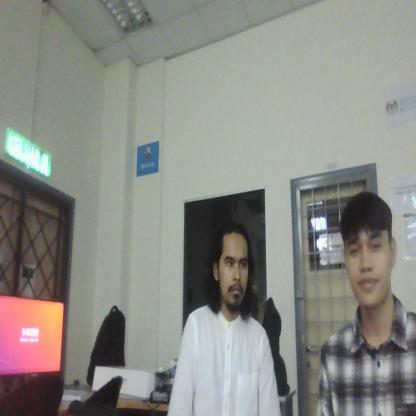Open-Eyes: (342, 232, 394, 260), (221, 252, 248, 274)
